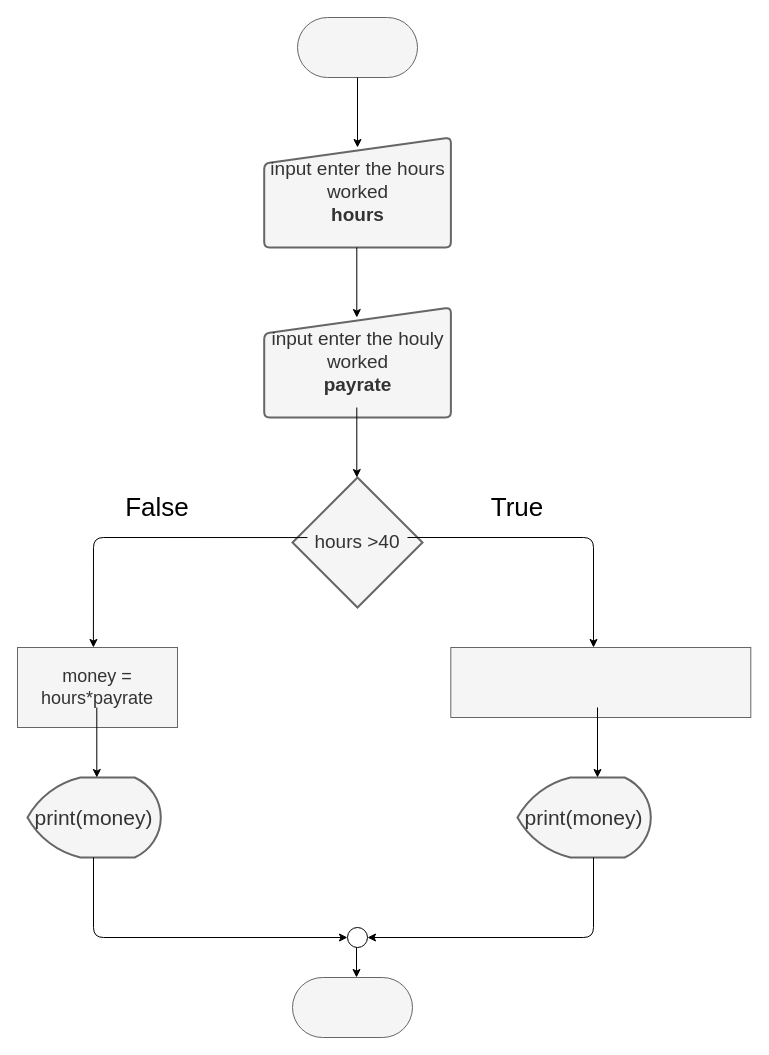
Image size: 769x1055. Some labels were removed from this diagram. Here are the shapes that lost their labels. From the top down, the centre of each, then its label:
point 357,47: Start
point 600,682: money = ((hours-40)*1.5)*payrate+(40*payrate)
point 352,1007: End
